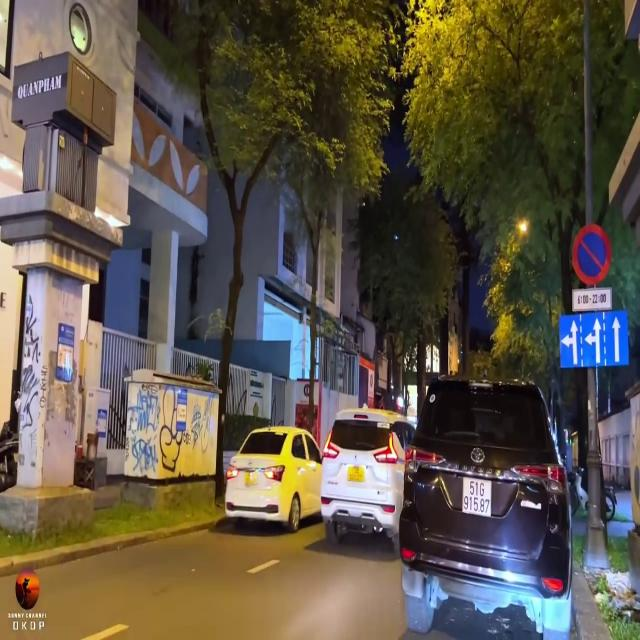bien_trang: (463, 476, 495, 521)
bien_vang: (345, 462, 366, 486), (244, 468, 257, 486)
